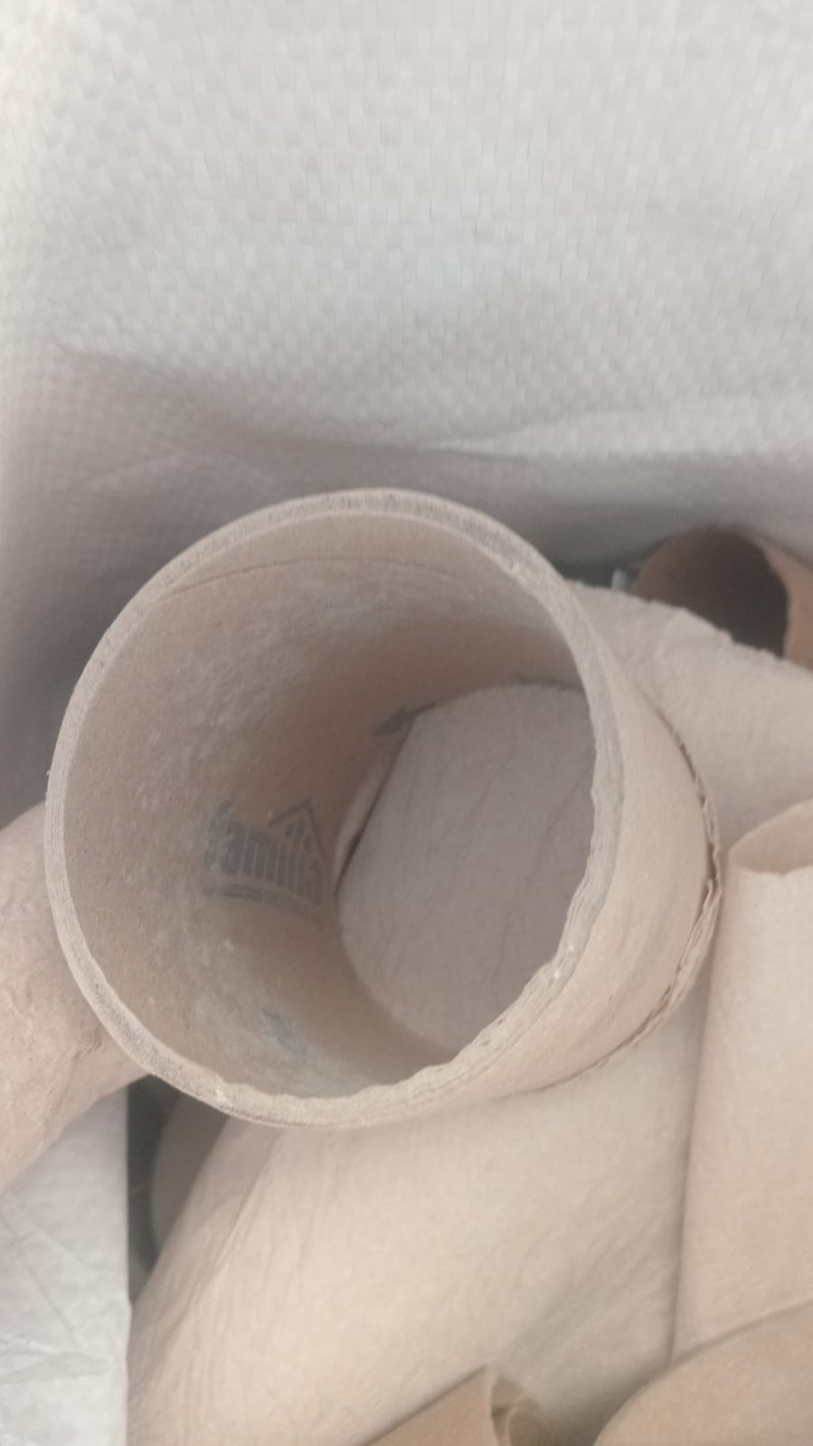Carton: (40, 488, 726, 1133)
